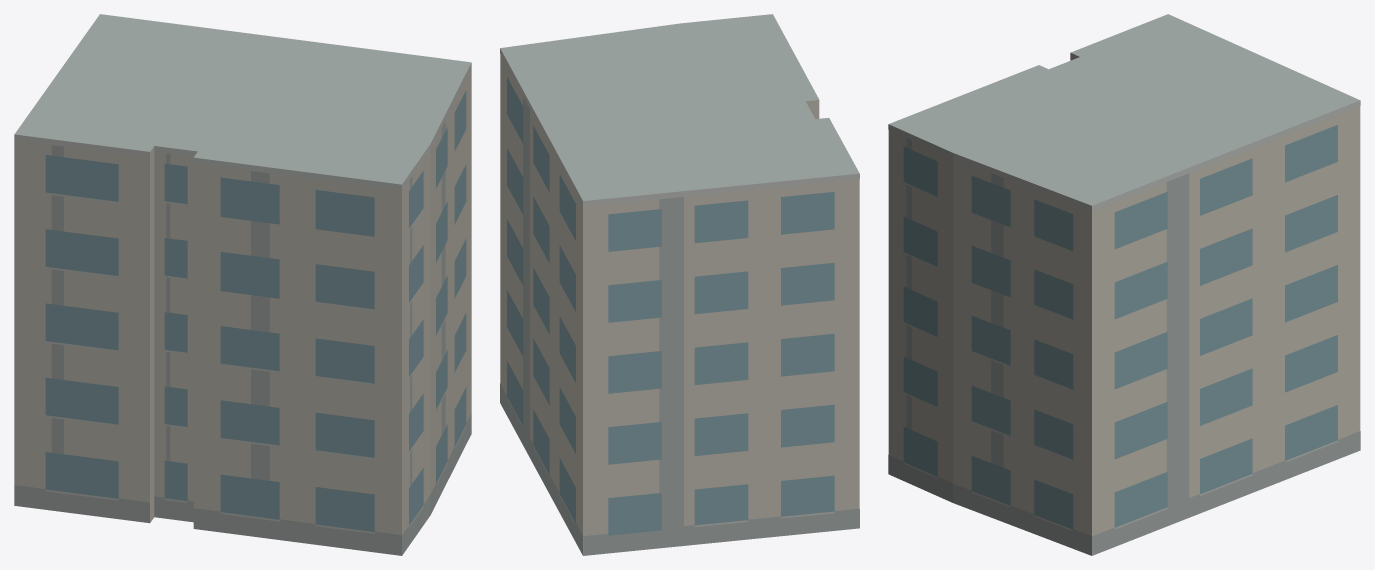
File: survey-upis-32834508.glb
The picture shows the model from 3 angles, left to right: view 1: azimuth 30°, elevation 25°; view 2: azimuth 150°, elevation 25°; view 3: azimuth 270°, elevation 25°; orthographic projection. The views are drawn at different scales.
Visible parts, largest first — view 1: survey-upis-32834508.tmp; view 2: survey-upis-32834508.tmp; view 3: survey-upis-32834508.tmp.
Boxes of the visible parts, x1=… form: survey-upis-32834508.tmp: x1=14, y1=14, x2=471, y2=555; survey-upis-32834508.tmp: x1=500, y1=14, x2=859, y2=555; survey-upis-32834508.tmp: x1=888, y1=14, x2=1360, y2=555.
Size of the model in its own units: 17.75 by 15.1 by 18.46.
